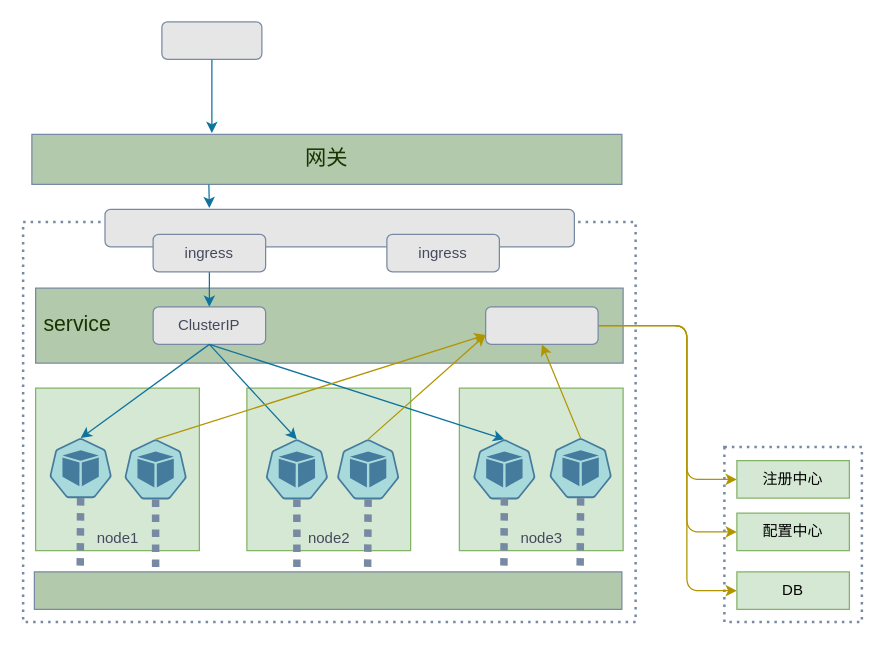
The diagram is 884 pixels wide and 645 high, and some of its shapes have lost their labels. The shapes that lost their labels are listed below. From the top down, each one's centre as x and y in pixels, then its label:
At point 211,40: "frontend".
At point 339,227: "traefik".
At point 541,325: "ExternalName".
At point 327,590: "flannel/calico 网络".
